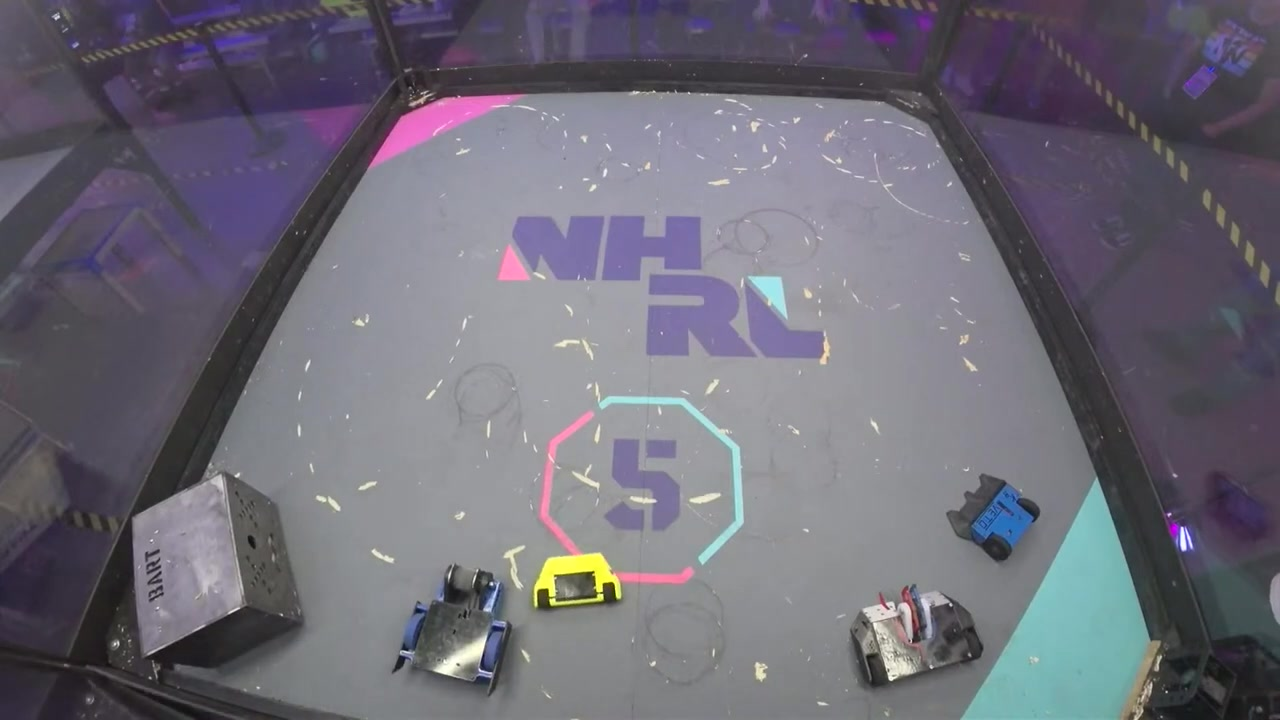combatbot: (391, 566, 514, 692), (849, 585, 987, 686)
housebot: (129, 472, 305, 666)
minibot: (944, 473, 1044, 565), (530, 553, 626, 611)
